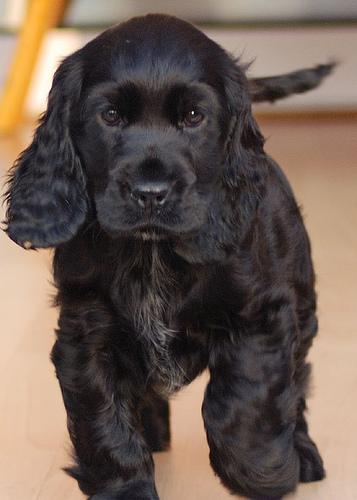dog-english_cocker_spaniel: (6, 12, 266, 261)
